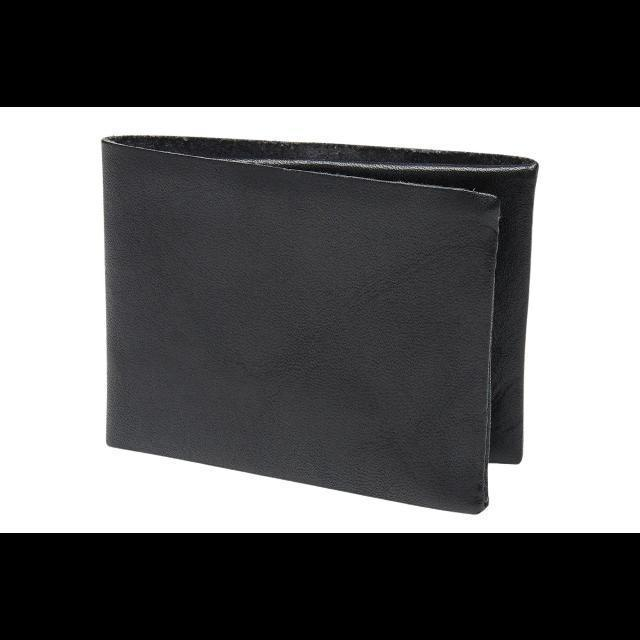Wallet: (94, 129, 542, 517)
